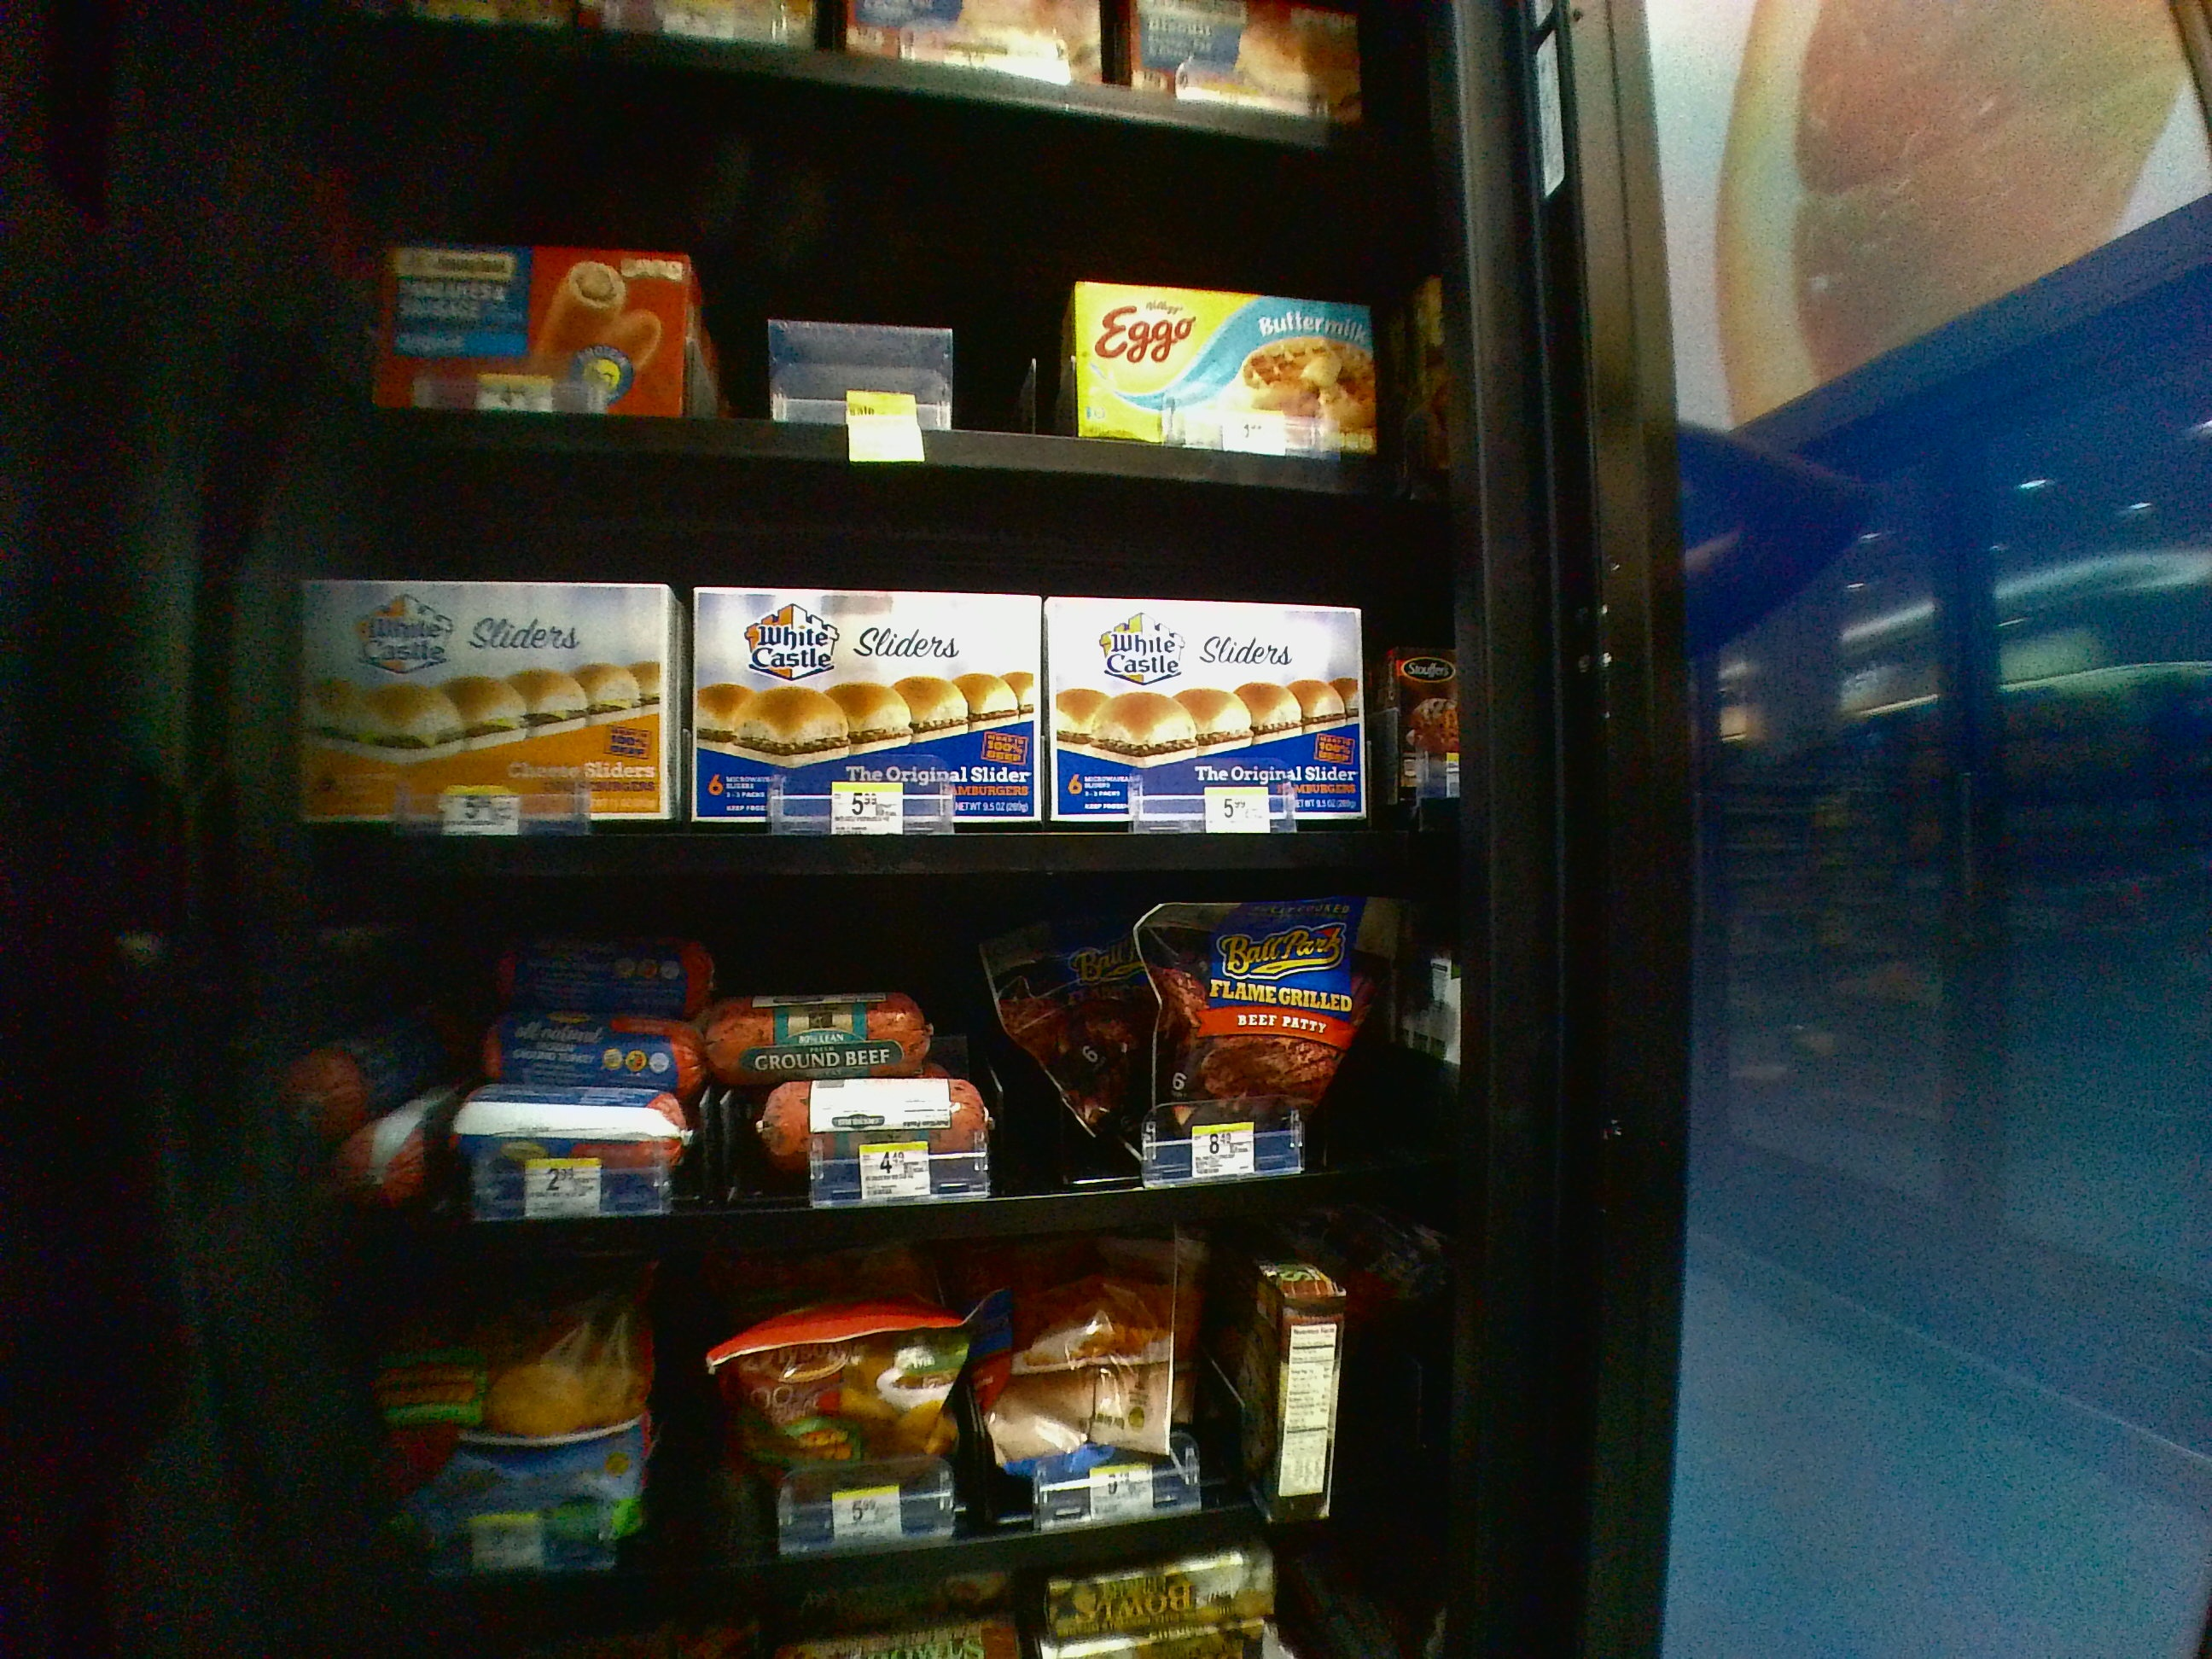shelf: (286, 448, 1440, 878), (275, 889, 1458, 1269)
